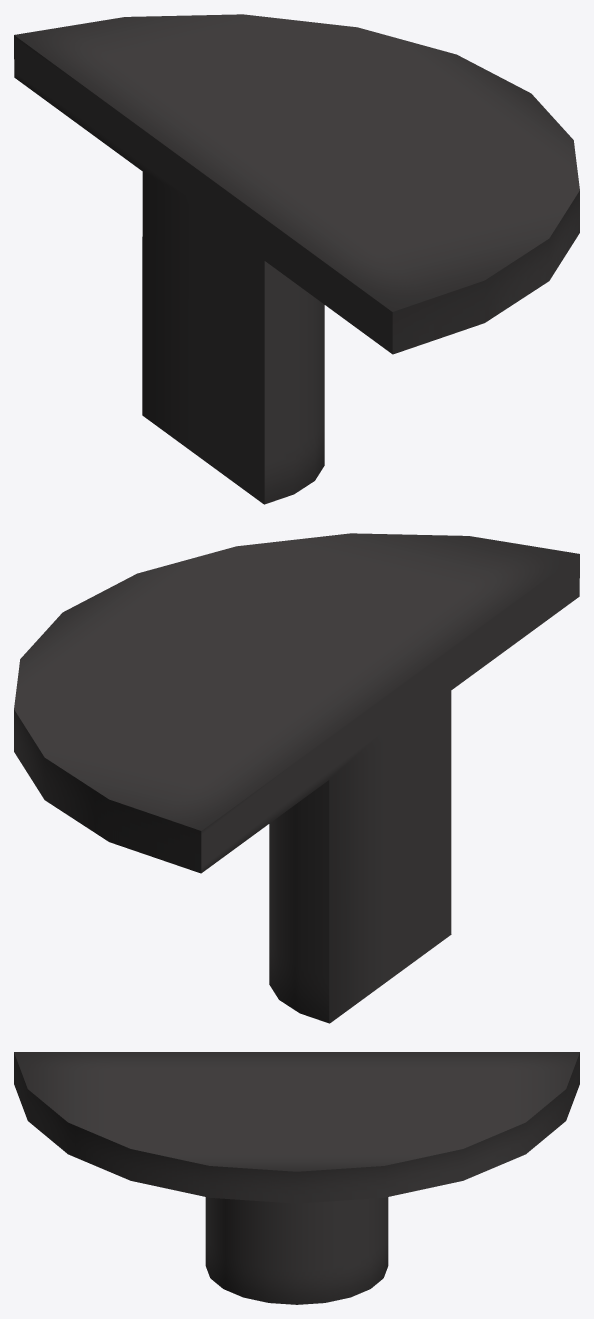
The model's file is SM_Circle_Table.fbx.
3 renders of one model, top to bottom at view 1: azimuth 30°, elevation 25°; view 2: azimuth 150°, elevation 25°; view 3: azimuth 270°, elevation 25°, orthographic. The views are drawn at different scales.
Visible parts, largest first — view 1: pCylinder2; view 2: pCylinder2; view 3: pCylinder2.
Boxes of the visible parts, x1,y1,x2,y2 form: pCylinder2: (14, 14, 579, 504); pCylinder2: (14, 533, 579, 1023); pCylinder2: (14, 1052, 579, 1304).
Size of the model in its own units: 1.32 by 1.1 by 2.65.
1 material, 1 textured.
